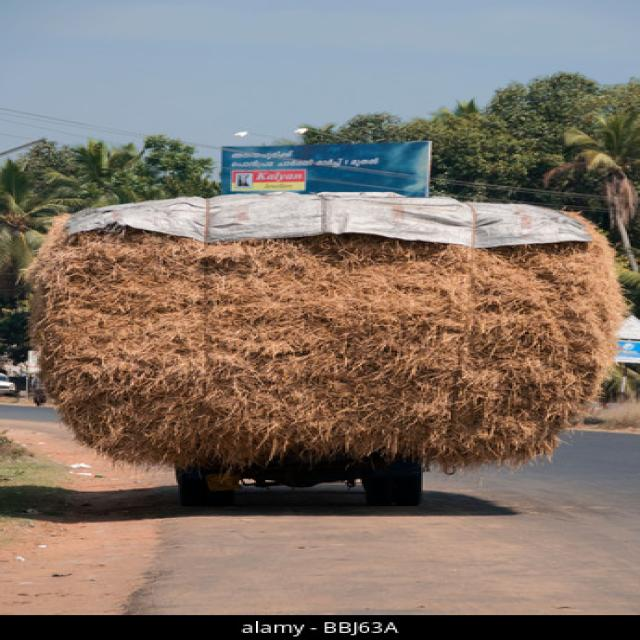goods: (29, 192, 624, 470)
truck: (176, 454, 423, 506)
